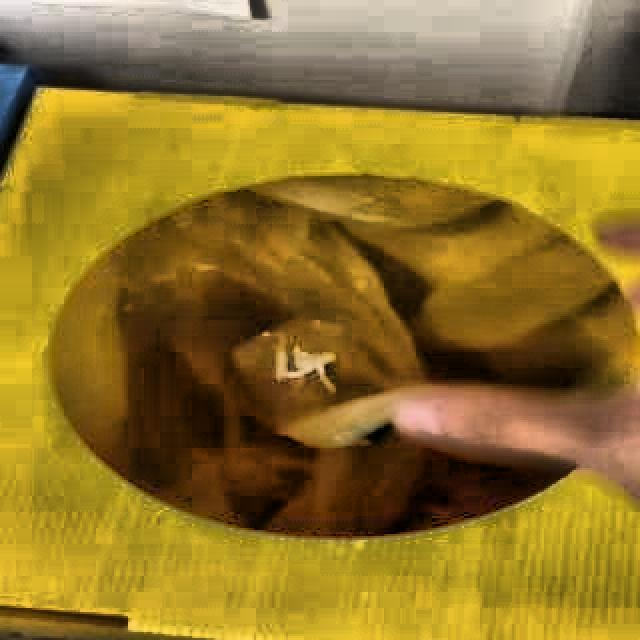plastic: (235, 318, 413, 449)
